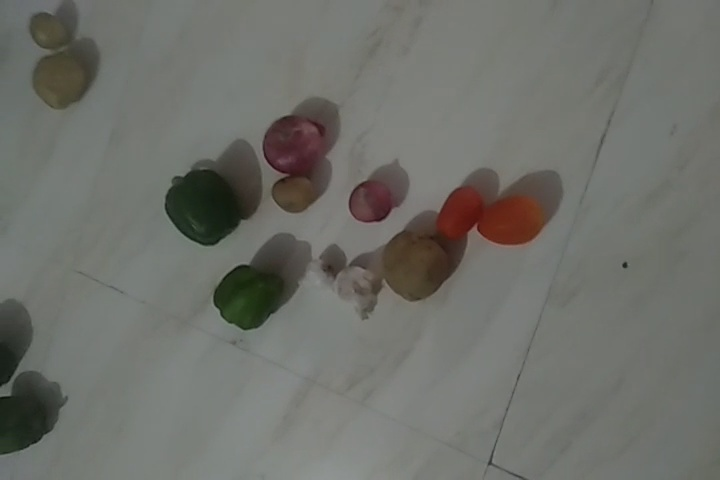capsicum: (168, 168, 236, 249), (212, 263, 286, 336), (1, 394, 49, 448)
garlic: (325, 267, 381, 314), (294, 258, 347, 297)
onion: (264, 118, 329, 173), (348, 179, 394, 220)
potato: (379, 229, 444, 311), (34, 54, 97, 107), (26, 8, 66, 53), (271, 180, 311, 213)
tomato: (481, 192, 553, 250), (436, 185, 480, 239)
